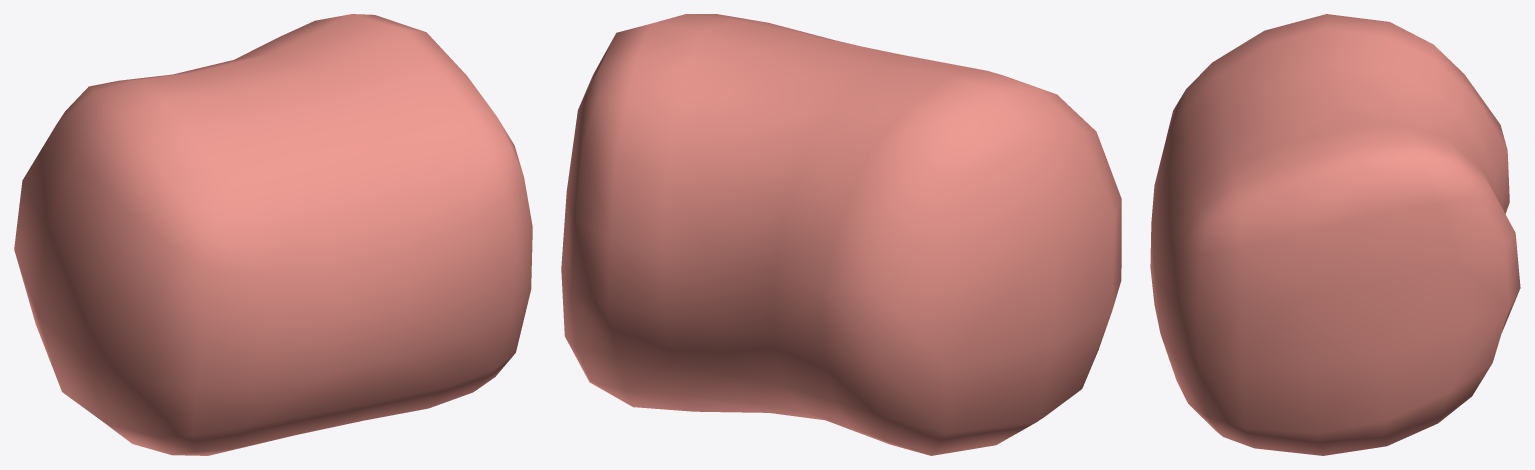
File: mixamo_humanoid_surface_rightHandMiddle2.fbx
The picture shows the model from 3 angles, left to right: view 1: azimuth 30°, elevation 25°; view 2: azimuth 150°, elevation 25°; view 3: azimuth 270°, elevation 25°; orthographic projection. The views are drawn at different scales.
Visible parts, largest first — view 1: surface_RightHandMiddle2; view 2: surface_RightHandMiddle2; view 3: surface_RightHandMiddle2.
Boxes of the visible parts, x1,y1,x2,y2 form: surface_RightHandMiddle2: (14,14,532,455); surface_RightHandMiddle2: (561,14,1121,455); surface_RightHandMiddle2: (1150,14,1520,455).
Size of the model in its own units: 2.28 by 1.7 by 1.84.
